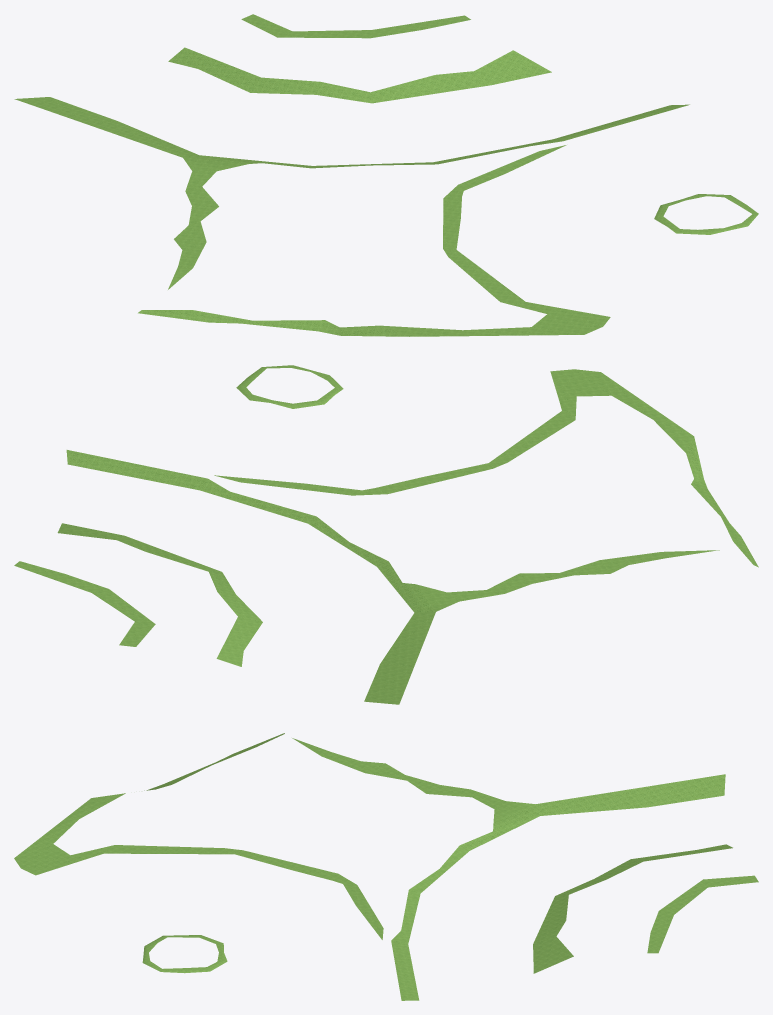
The model's file is kd_stage_1364a3_9_11_bounded.glb.
3 renders of one model, top to bottom at view 1: azimuth 30°, elevation 25°; view 2: azimuth 150°, elevation 25°; view 3: azimuth 270°, elevation 25°, orthographic. The views are drawn at different scales.
Visible parts, largest first — view 1: kd_stage_1364a3_9_11_bounded; view 2: kd_stage_1364a3_9_11_bounded; view 3: kd_stage_1364a3_9_11_bounded.
Boxes of the visible parts, x1,y1,x2,y2 form: kd_stage_1364a3_9_11_bounded: (14,14,758,336); kd_stage_1364a3_9_11_bounded: (14,365,758,704); kd_stage_1364a3_9_11_bounded: (14,733,758,1000).
Bounding box in the file's own units: 56.59 × 1.84 × 63.95.
1 material, 1 textured.
